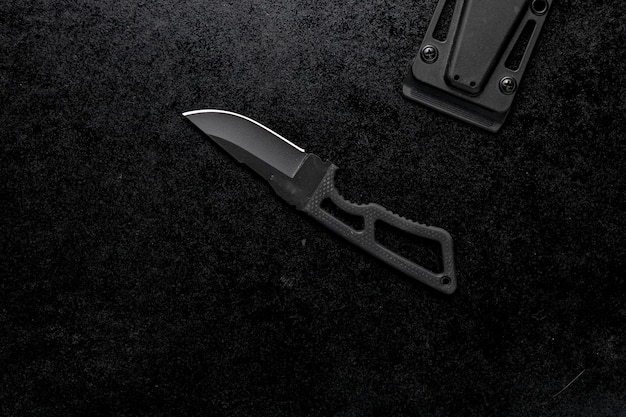knife: (180, 107, 459, 298)
